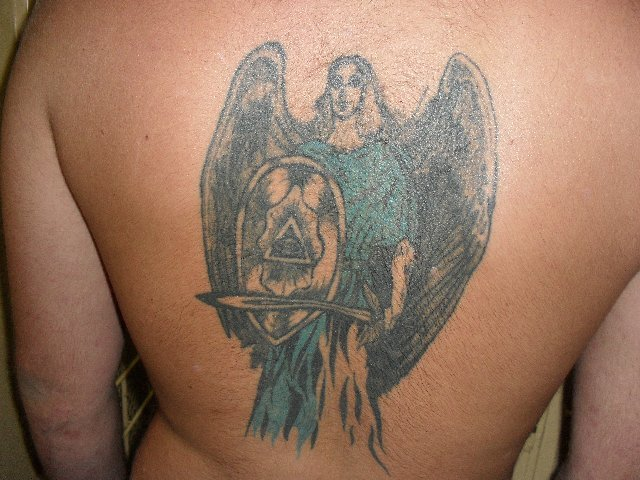tatu1_angel: (186, 27, 502, 476)
